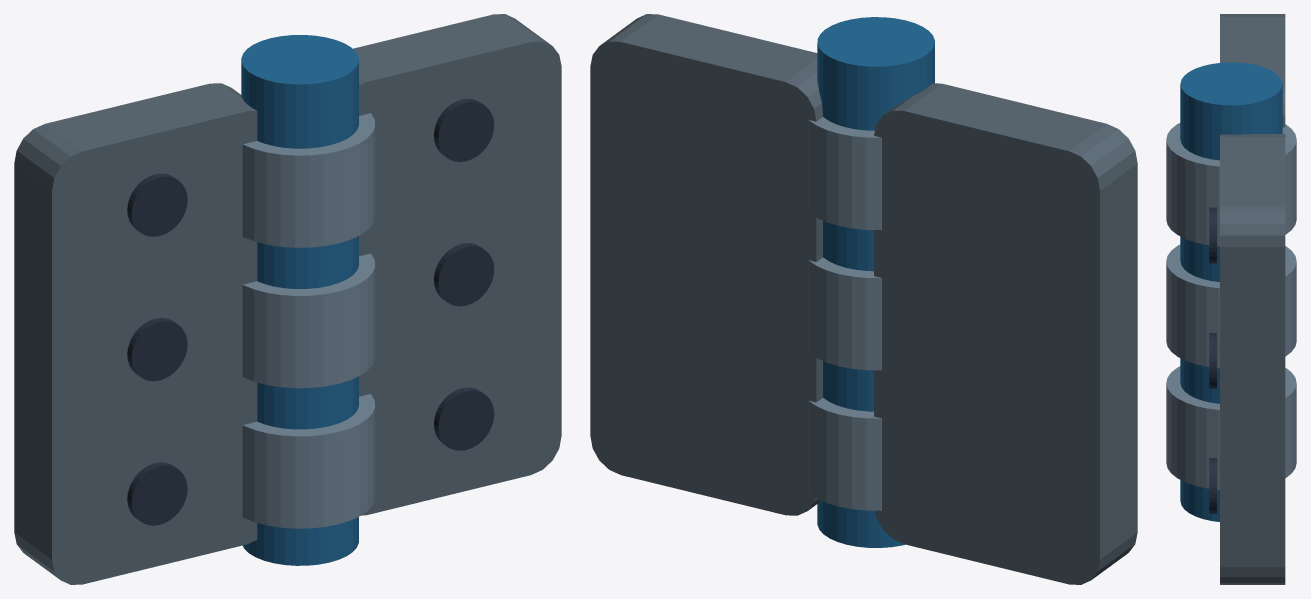
The model's file is hingeplate.glb.
3 views of the same model, side by side, from view 1: azimuth 30°, elevation 25°; view 2: azimuth 150°, elevation 25°; view 3: azimuth 270°, elevation 25° (orthographic). The views are drawn at different scales.
Visible parts, largest first — view 1: leaf-1, leaf1, pin, fixing hole (×6), knuckle0.24, knuckle0.94, knuckle0.59; view 2: leaf-1, leaf1, pin, knuckle0.24, knuckle0.59, knuckle0.94; view 3: leaf1, pin, knuckle0.24, knuckle0.59, knuckle0.94, leaf-1, fixing hole (×3).
Boxes of the visible parts, x1,y1,x2,y2 form: leaf-1: [14, 83, 257, 584]; leaf1: [353, 14, 561, 515]; pin: [241, 35, 358, 565]; fixing hole (×6): [127, 98, 494, 525]; knuckle0.24: [242, 394, 375, 528]; knuckle0.94: [242, 113, 375, 247]; knuckle0.59: [242, 253, 375, 388]; leaf-1: [874, 83, 1137, 584]; leaf1: [590, 14, 822, 515]; pin: [817, 17, 934, 547]; knuckle0.24: [808, 398, 881, 510]; knuckle0.59: [808, 257, 881, 370]; knuckle0.94: [808, 117, 881, 229]; leaf1: [1220, 134, 1285, 584]; pin: [1180, 62, 1282, 521]; knuckle0.24: [1166, 366, 1296, 489]; knuckle0.59: [1166, 244, 1296, 368]; knuckle0.94: [1166, 123, 1296, 246]; leaf-1: [1220, 14, 1285, 127]; fixing hole (×3): [1209, 207, 1216, 513].
Bounding box in the file's own units: 1.33 × 1.2 × 0.34.
